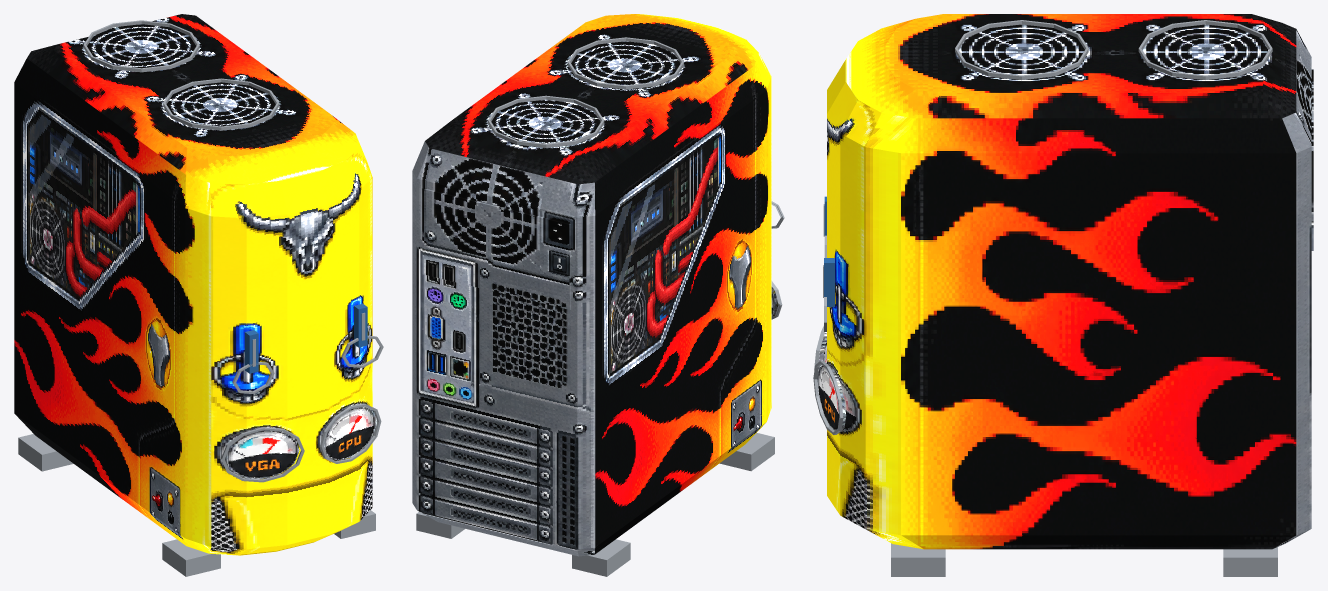
Rendered from Hotrod_PC_PSX.glb.
3 renders of one model, left to right at view 1: azimuth 30°, elevation 25°; view 2: azimuth 150°, elevation 25°; view 3: azimuth 270°, elevation 25°, orthographic. The views are drawn at different scales.
Parts seen in each view (by area): view 1: Hotrod_PC_PSX; view 2: Hotrod_PC_PSX; view 3: Hotrod_PC_PSX.
Boxes of the visible parts, left/top/right/bottom form: Hotrod_PC_PSX: left=14, top=14, right=383, bottom=576; Hotrod_PC_PSX: left=412, top=14, right=784, bottom=576; Hotrod_PC_PSX: left=813, top=14, right=1313, bottom=576.
Size of the model in its own units: 0.25 by 0.5155 by 0.4935.
Materials: 3 (1 with a texture image).
